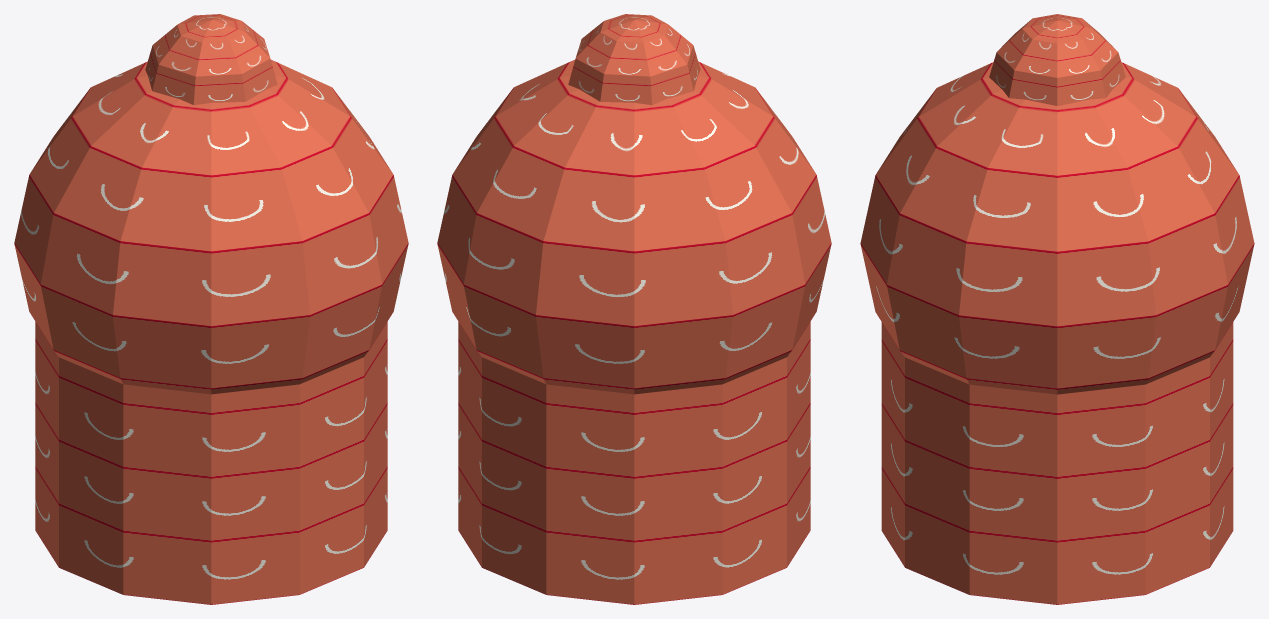
Rendered from prop_flower_pot.glb.
The picture shows the model from 3 angles, left to right: view 1: azimuth 30°, elevation 25°; view 2: azimuth 150°, elevation 25°; view 3: azimuth 270°, elevation 25°; orthographic projection.
Parts seen in each view (by area): view 1: prop_flower_pot; view 2: prop_flower_pot; view 3: prop_flower_pot.
Boxes of the visible parts, <box> form: prop_flower_pot: <box>14,14,408,604</box>; prop_flower_pot: <box>437,14,831,604</box>; prop_flower_pot: <box>860,14,1254,604</box>.
Bounding box in the file's own units: 0.56 × 0.8 × 0.56.
1 material, 1 textured.
